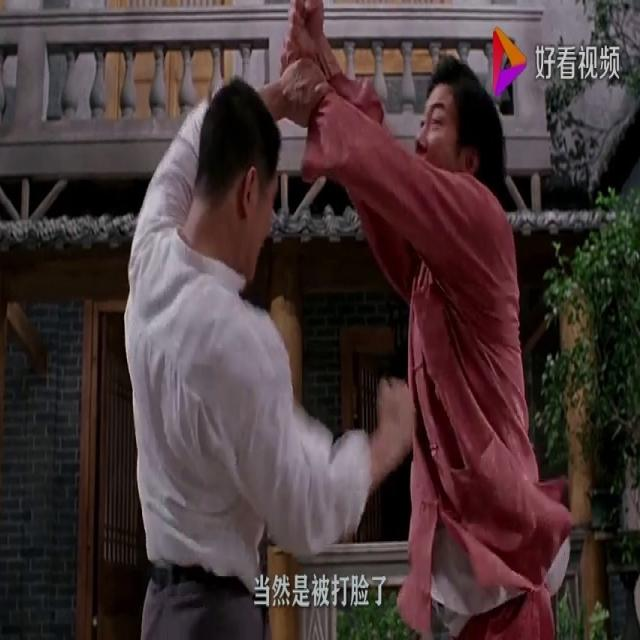fight: (110, 53, 584, 639)
